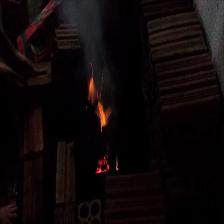fire: (85, 80, 112, 126)
smoke: (76, 12, 107, 70)
